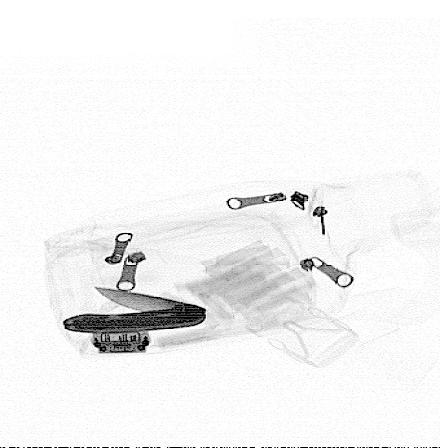Knife: (61, 285, 208, 336)
